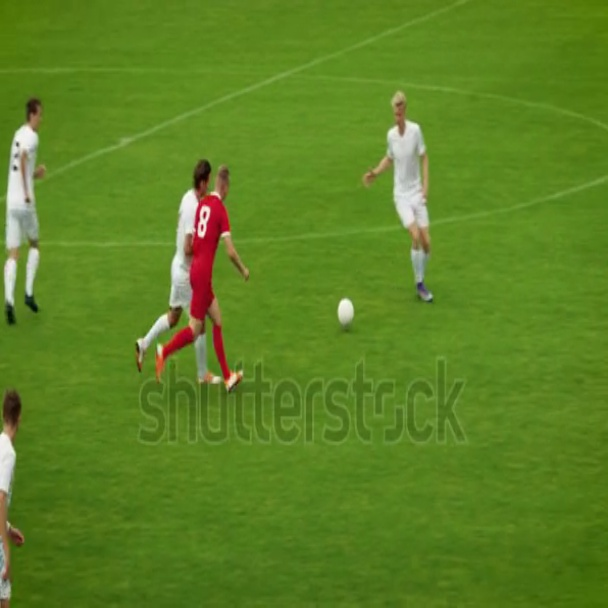ball: (339, 296, 356, 331)
